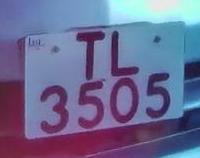0: (108, 76, 142, 126)
3: (31, 72, 76, 142)
5: (73, 77, 110, 130), (141, 69, 176, 124)
L: (106, 22, 144, 79)
T: (71, 22, 107, 80)
